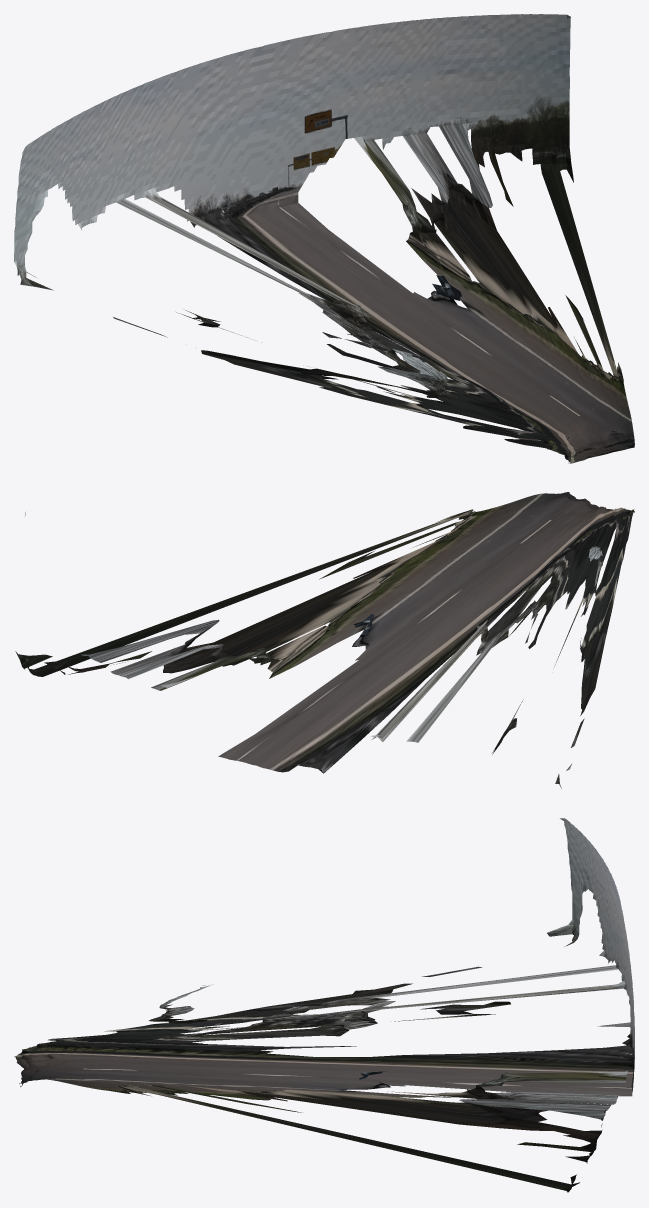
3 views of the same model, one above another, from view 1: azimuth 30°, elevation 25°; view 2: azimuth 150°, elevation 25°; view 3: azimuth 270°, elevation 25° (orthographic). The views are drawn at different scales.
Parts seen in each view (by area): view 1: defaultobject; view 2: defaultobject; view 3: defaultobject.
Boxes of the visible parts, left/top/right/bottom form: defaultobject: left=14, top=14, right=634, bottom=463; defaultobject: left=15, top=492, right=634, bottom=788; defaultobject: left=14, top=818, right=634, bottom=1192.
Bounding box in the file's own units: 41.16 × 12.46 × 44.57.
Materials: 1 (1 with a texture image).
